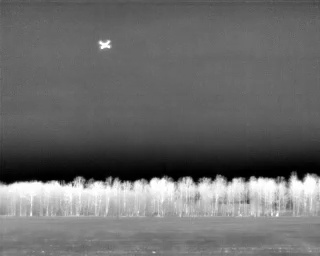DRONE: (95, 35, 116, 55)
